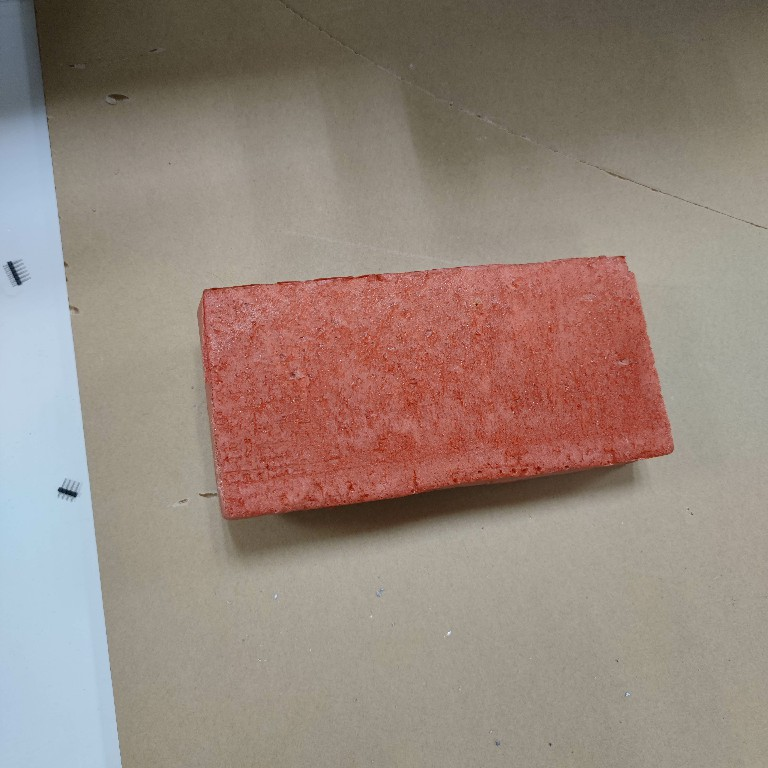brick: (194, 250, 680, 522)
